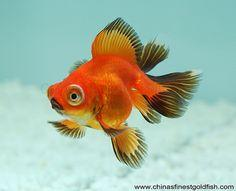goldfish: (36, 19, 204, 161)
